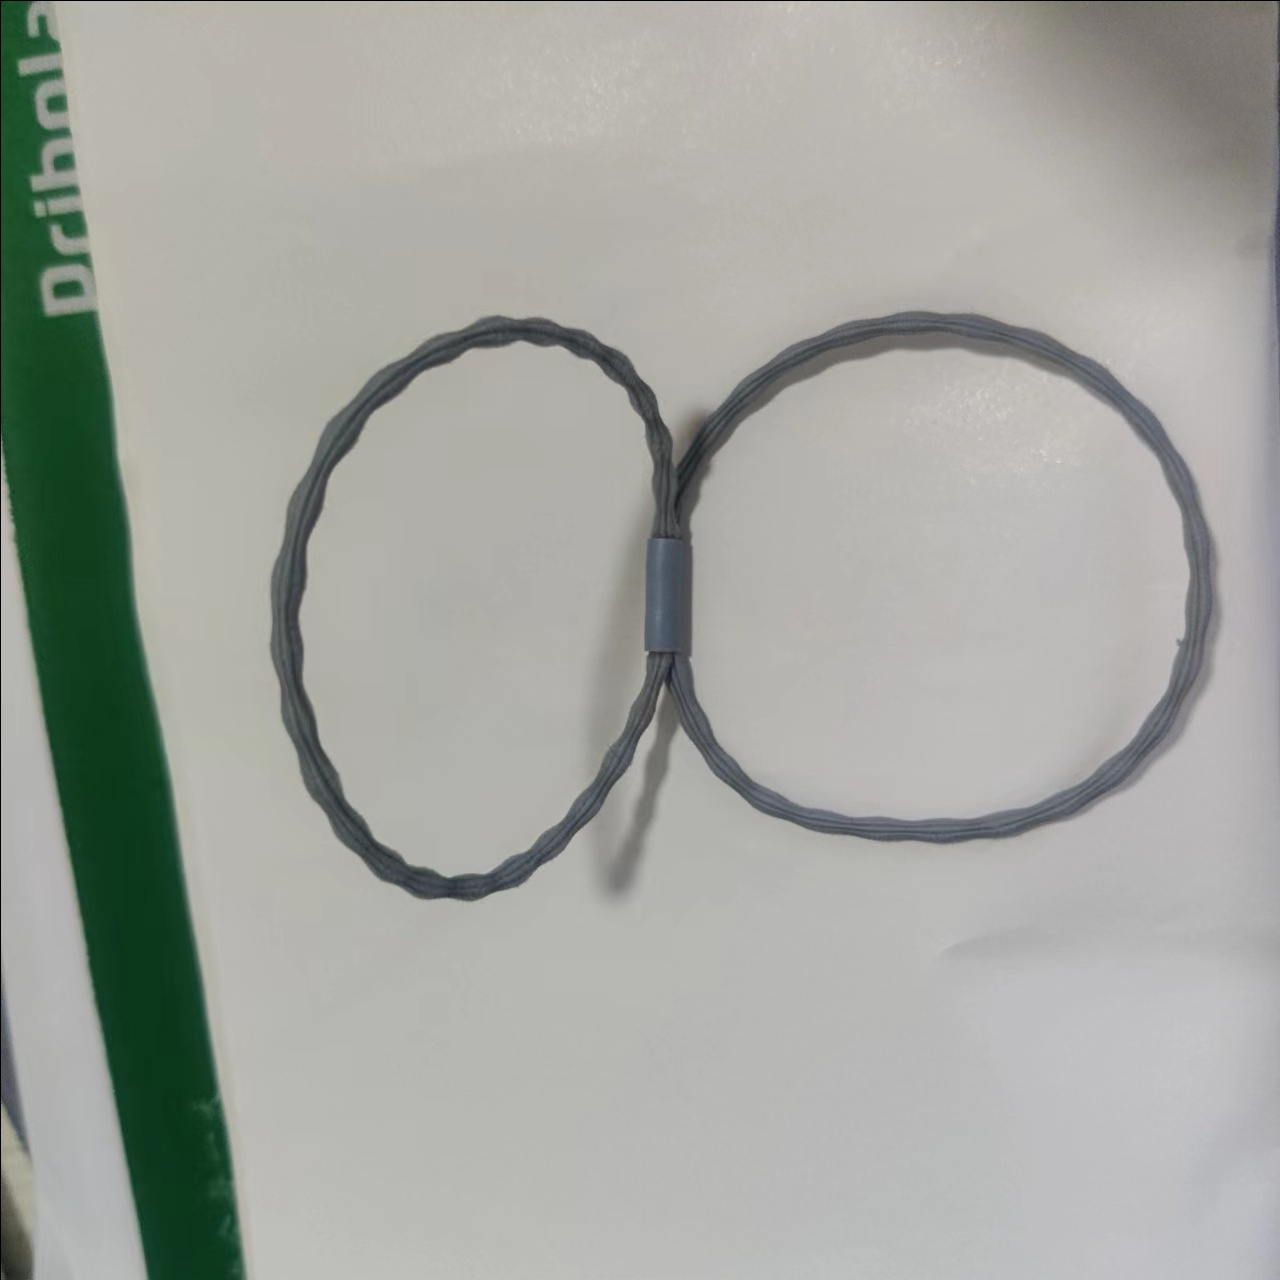9/可回收垃圾/绳子: (268, 309, 1218, 905)
